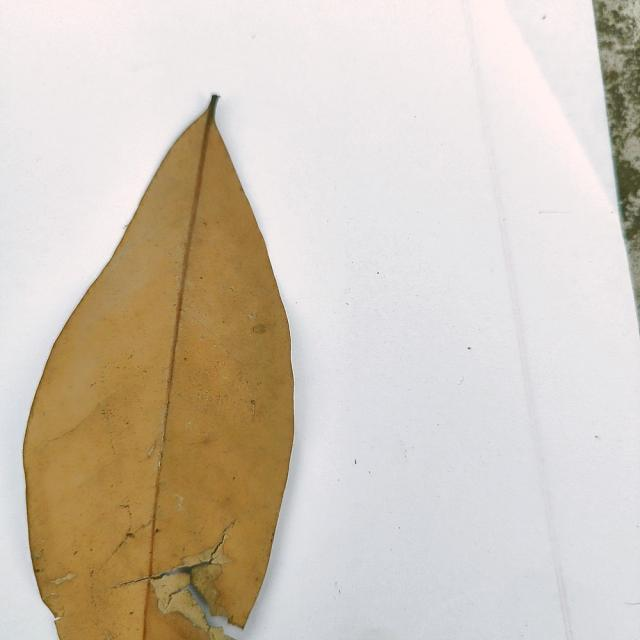Dry_Leaf-Lychee: (21, 99, 295, 639)
